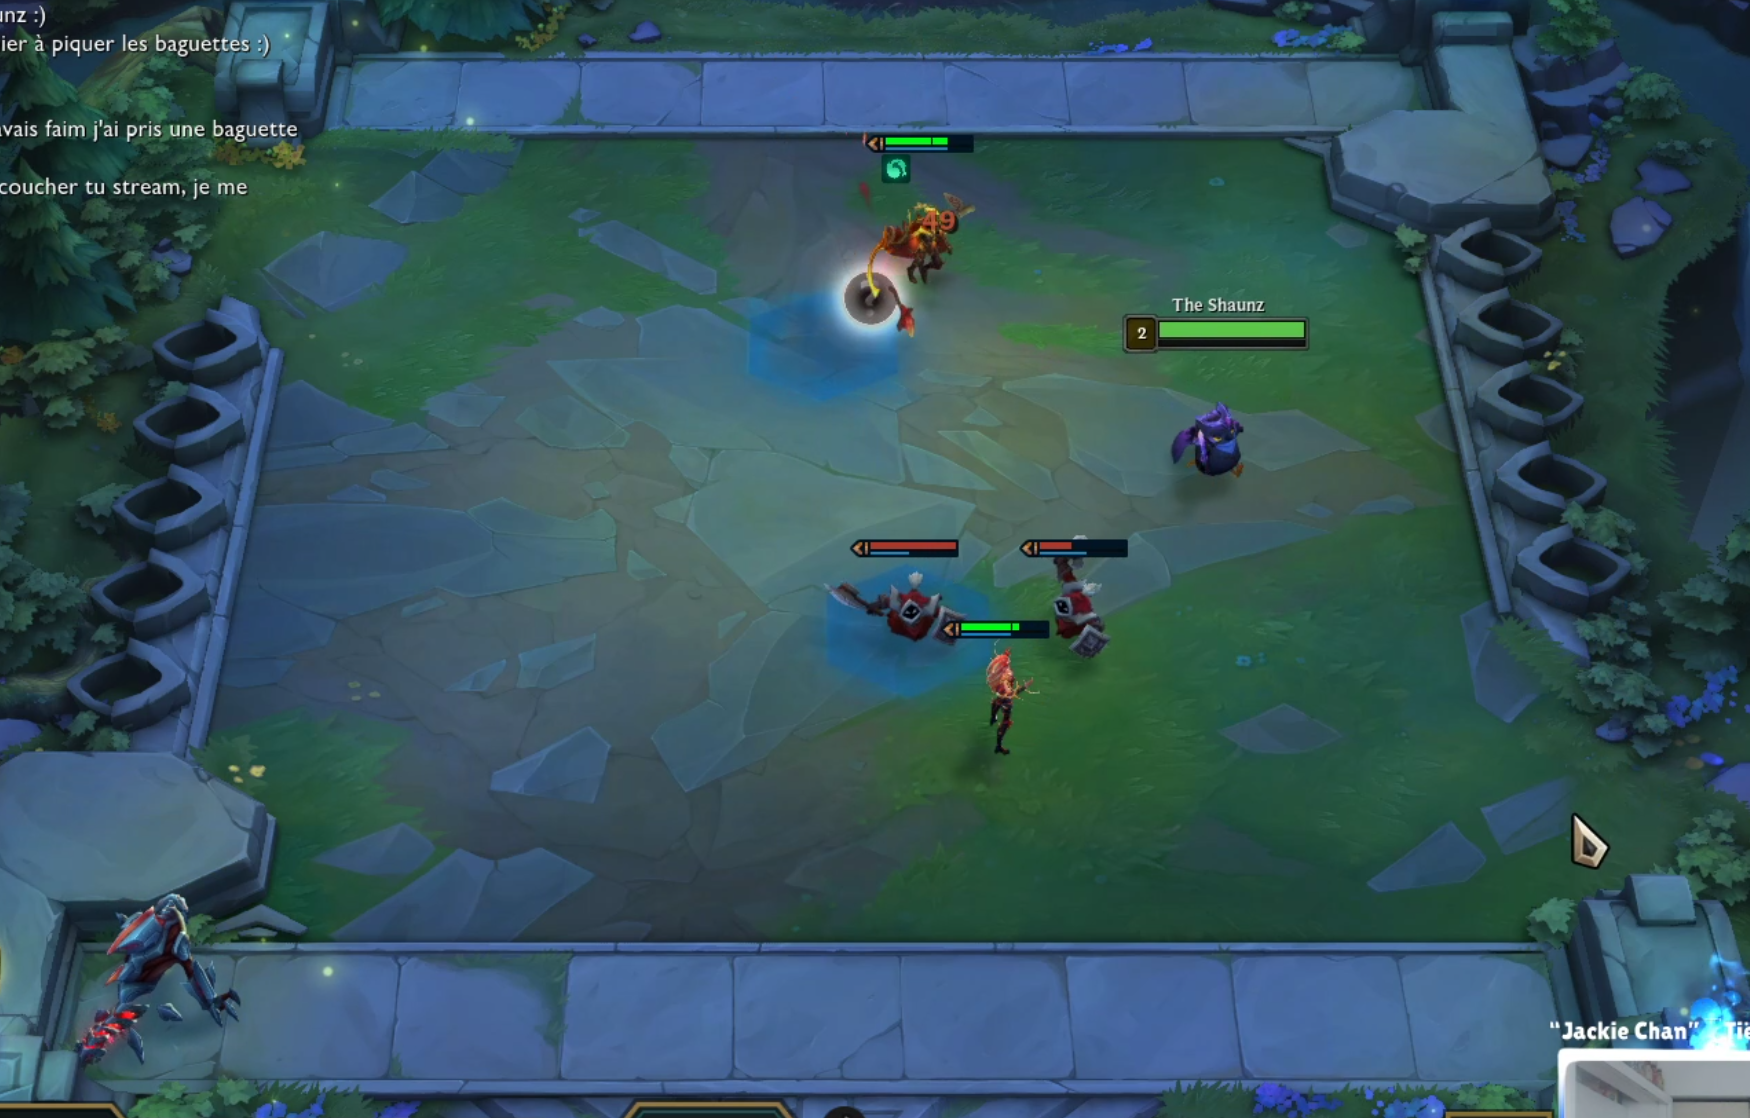gray orb: (843, 268, 904, 337)
